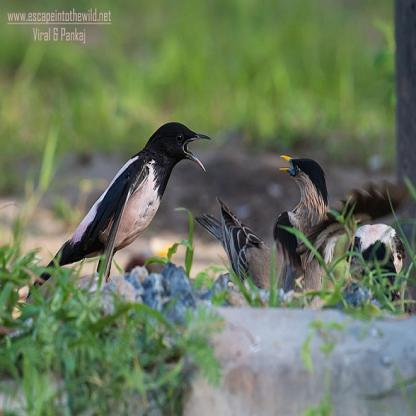Burung: (24, 124, 212, 295), (275, 152, 351, 305)
